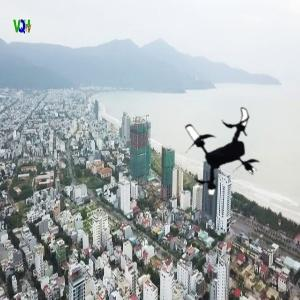drone: (173, 100, 269, 196)
